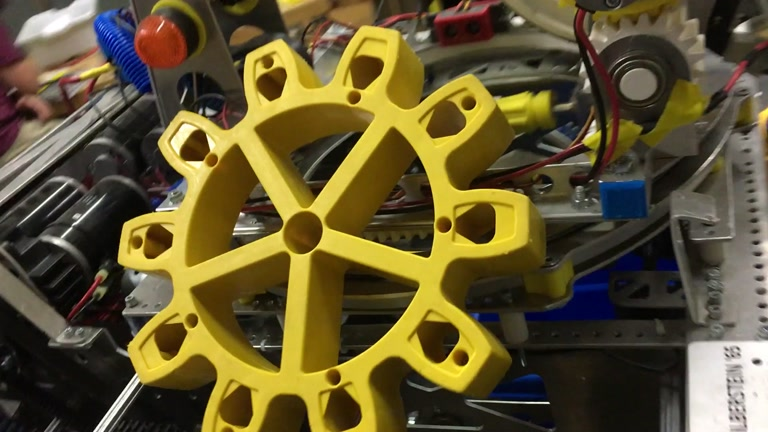gear: (118, 27, 546, 432)
